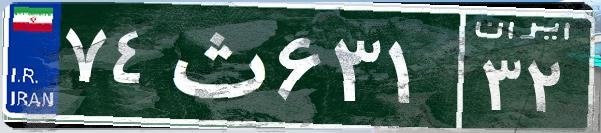1: (385, 28, 445, 110)
2: (525, 38, 570, 115)
3: (330, 28, 385, 110), (475, 38, 525, 113)
4: (110, 28, 158, 105)
6: (273, 28, 330, 110)
7: (57, 26, 110, 107)
ث: (158, 15, 273, 115)
